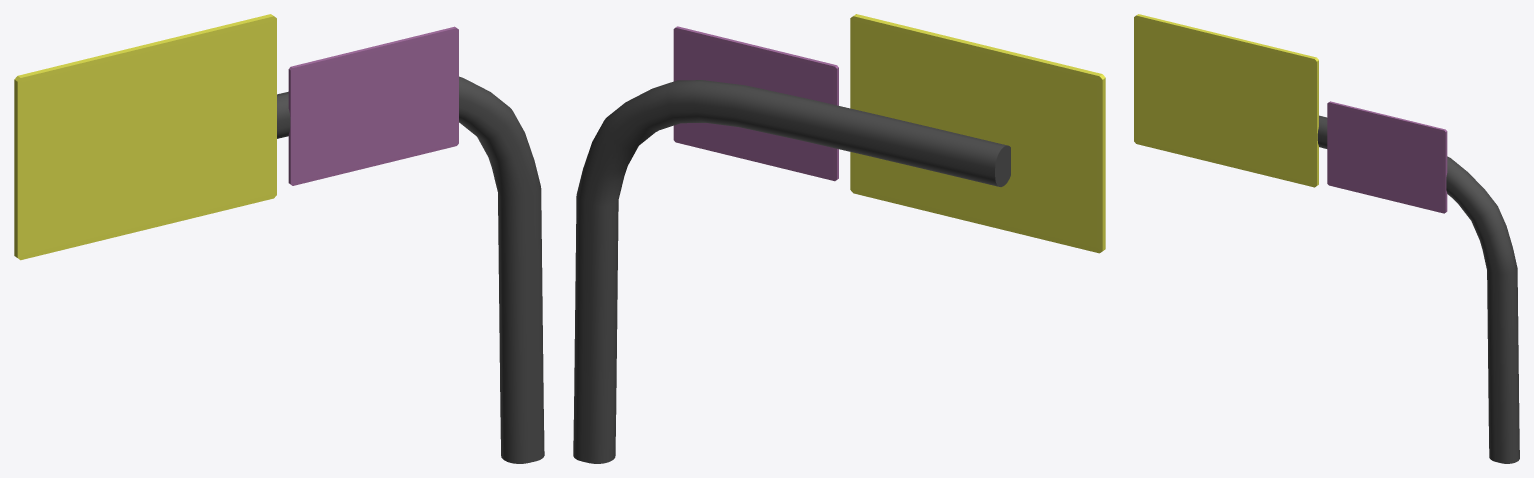
File: Highway_RightSign.fbx
3 renders of one model, left to right at view 1: azimuth 30°, elevation 25°; view 2: azimuth 150°, elevation 25°; view 3: azimuth 330°, elevation 25°, orthographic. The views are drawn at different scales.
Parts seen in each view (by area): view 1: Sign8, Sign9, Pole3; view 2: Sign8, Pole3, Sign9; view 3: Sign8, Sign9, Pole3.
Part boxes in pixels (x1,y1,x2,y2): Sign8: [14, 14, 276, 260]; Sign9: [288, 26, 458, 185]; Pole3: [277, 76, 544, 463]; Sign8: [850, 14, 1105, 253]; Pole3: [573, 80, 1010, 463]; Sign9: [673, 26, 838, 181]; Sign8: [1134, 14, 1318, 187]; Sign9: [1327, 101, 1447, 213]; Pole3: [1317, 115, 1519, 463].
Size of the model in its own units: 14 by 12.77 by 0.8861.
